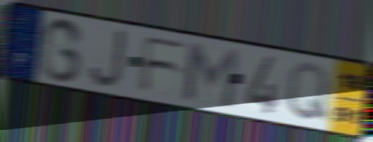4: (243, 53, 280, 116)
F: (137, 34, 190, 94)
G: (36, 16, 86, 84)
J: (87, 27, 129, 90)
M: (182, 39, 241, 111)
Q: (286, 61, 332, 125)
